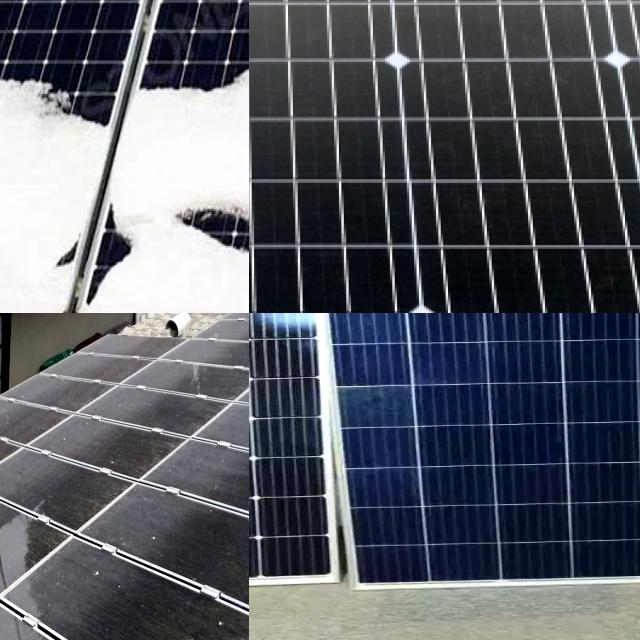crack: (249, 0, 640, 313), (301, 313, 640, 582)
dust: (118, 359, 249, 507), (0, 508, 63, 640), (48, 594, 197, 640), (0, 443, 78, 523), (69, 548, 198, 596), (0, 529, 28, 618)
panel: (12, 59, 110, 170), (183, 155, 249, 291), (126, 37, 249, 109), (84, 167, 149, 301), (0, 0, 166, 36), (0, 200, 53, 298), (0, 50, 66, 112), (0, 7, 55, 79), (0, 122, 38, 209), (0, 200, 35, 287), (0, 0, 39, 53), (0, 0, 42, 30), (0, 0, 32, 27)
